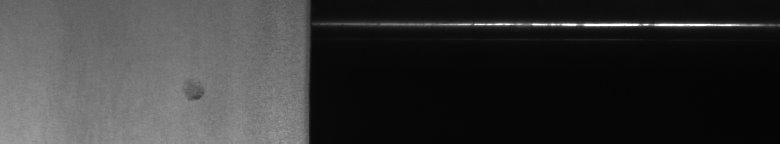fi: (184, 84, 208, 108)
